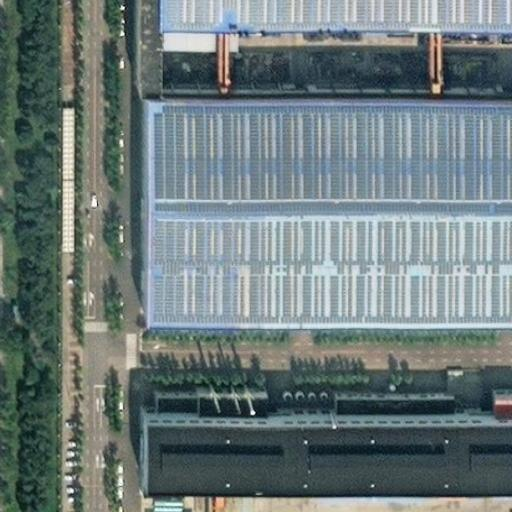building: (134, 70, 512, 301), (271, 360, 440, 398), (144, 379, 249, 398), (478, 382, 502, 398)
